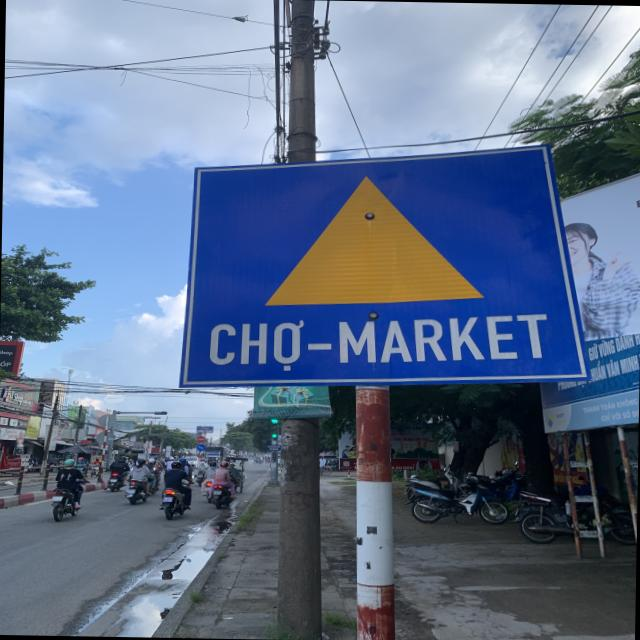Cho_Quay_Xe: (187, 138, 595, 390)
